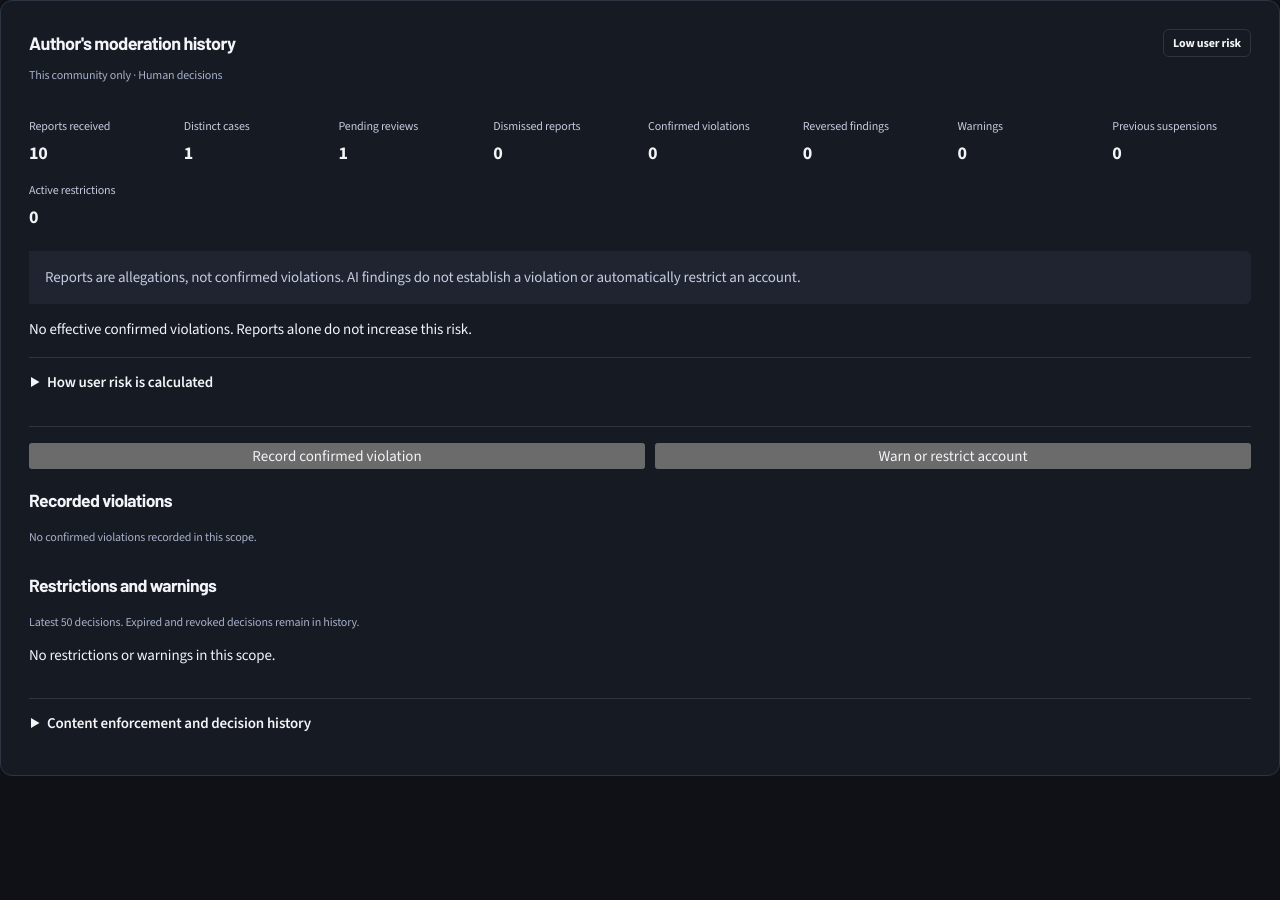
Test: limits community controls to the server-provided types
The width and height of the screenshot is (1280, 900).
Click the button "Warn or restrict account" at point(953, 456), box [655, 443, 1251, 469]
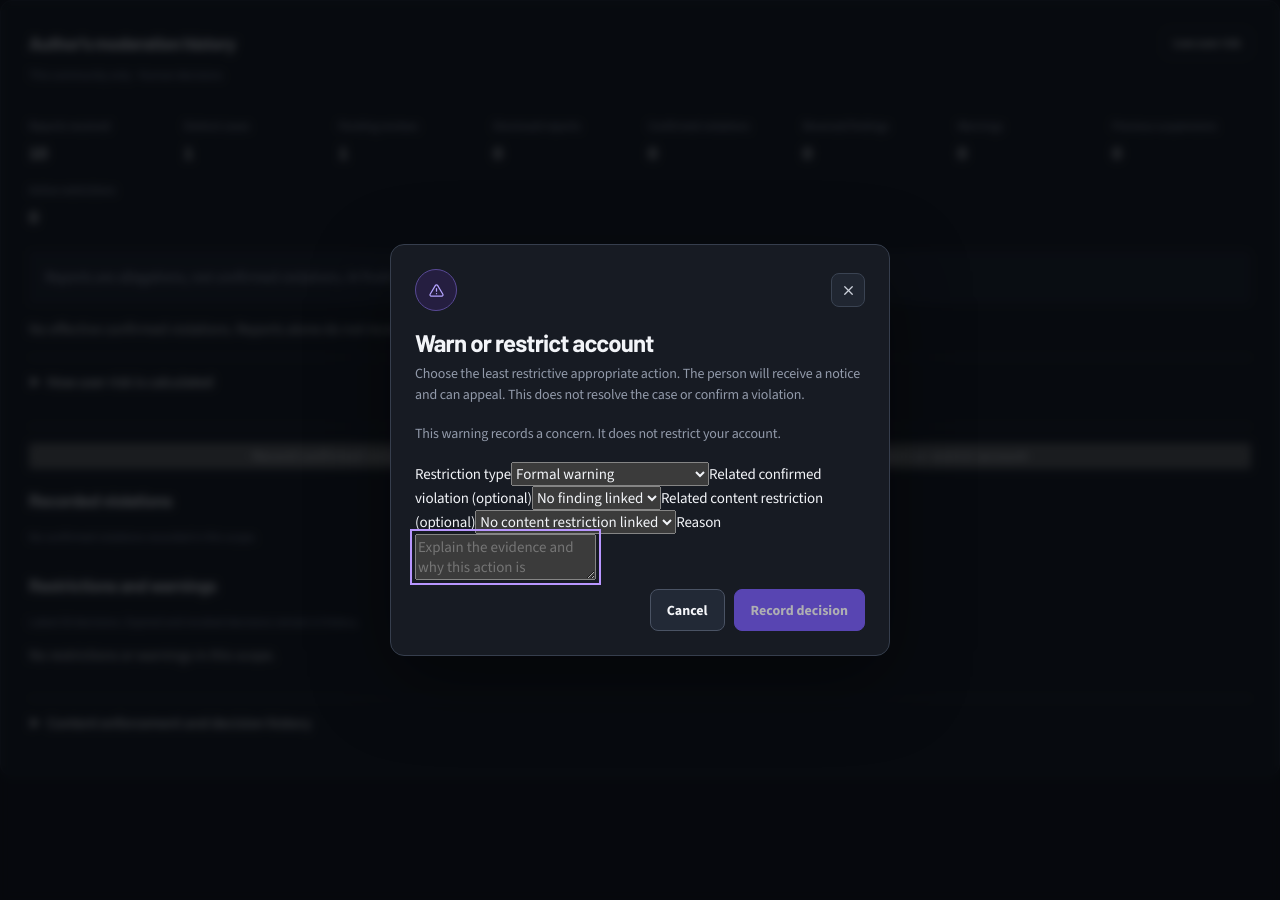
Select "Community write restriction" in the dropdown labelled "Restriction type" at point(610, 474), box [511, 462, 709, 486]
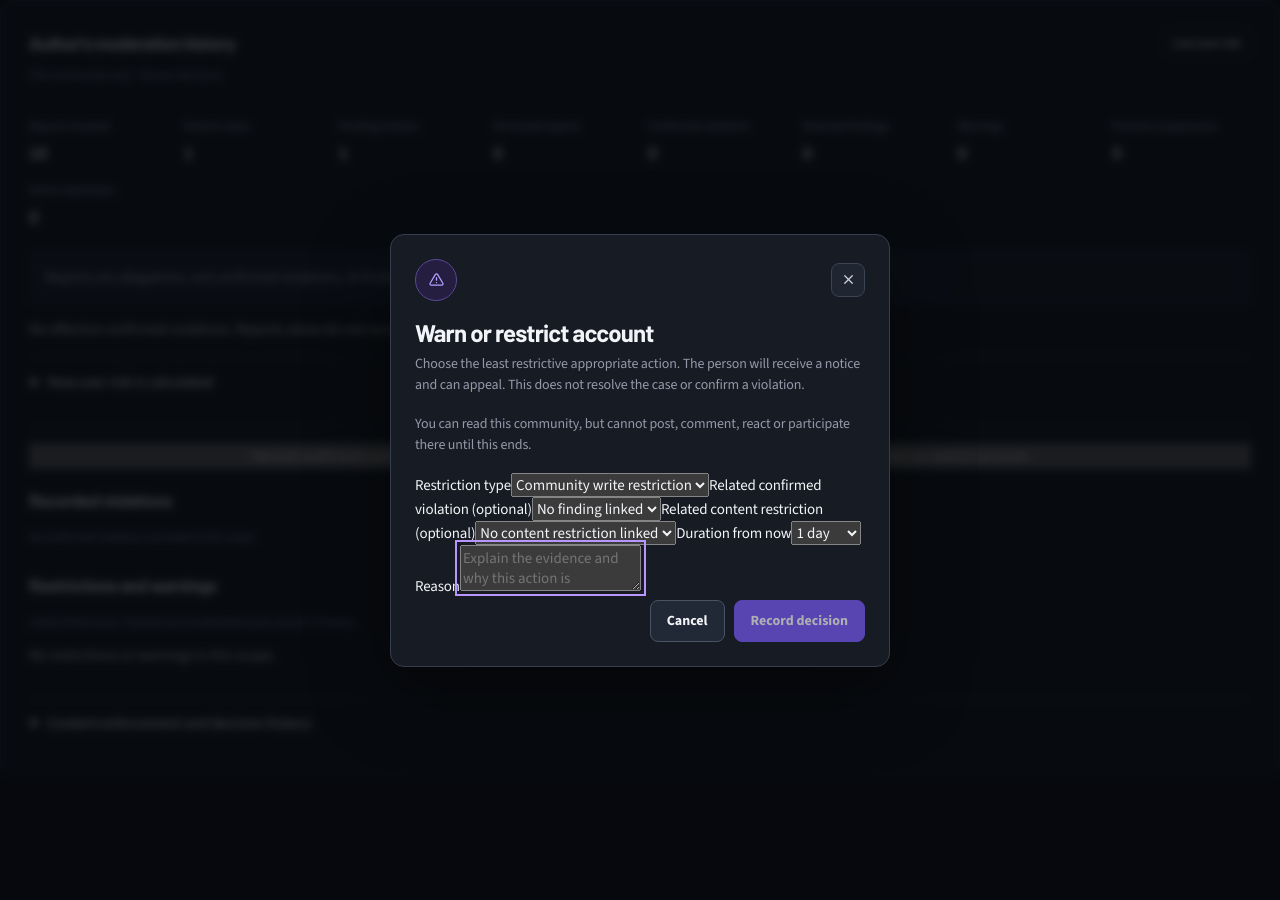
Now the dropdown labelled "Duration from now" is shown, box [792, 520, 862, 544]
